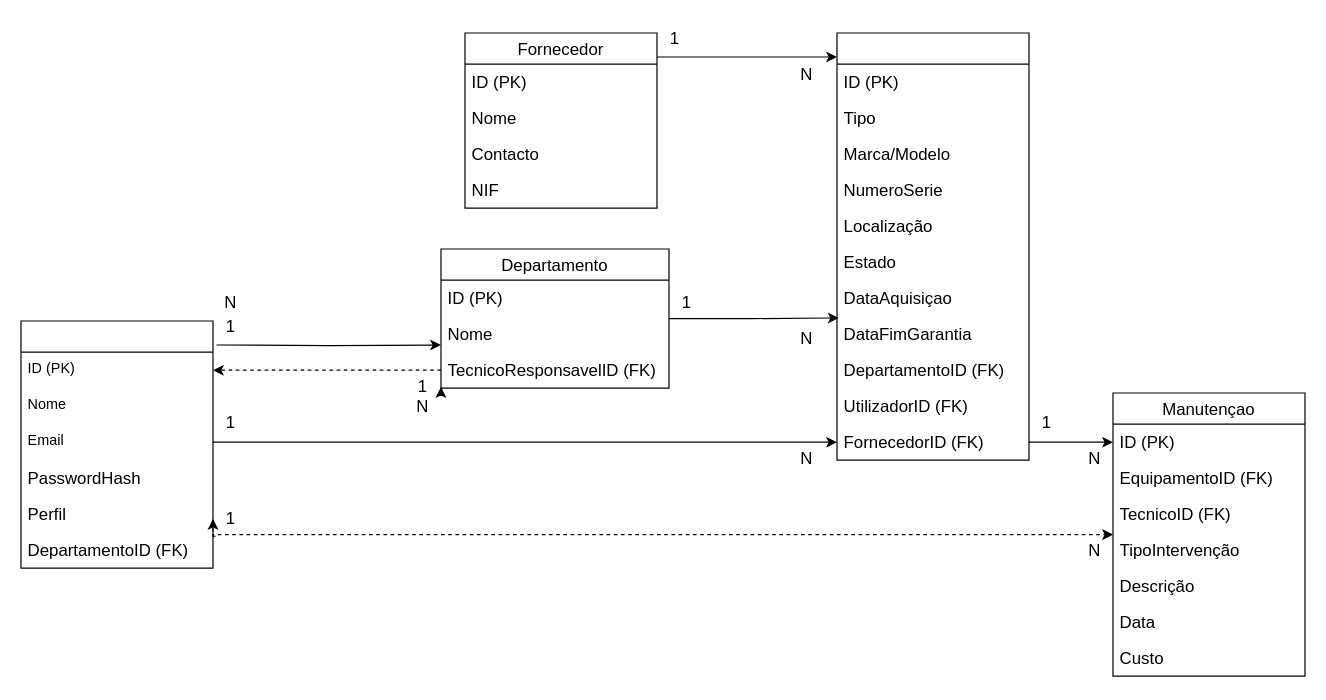
The diagram is 1326 pixels wide and 700 high, and some of its shapes have lost their labels. Each missing label, with the box of its shape:
Equipamento: (836, 32, 1029, 460)
Utilizador: (20, 320, 213, 568)
